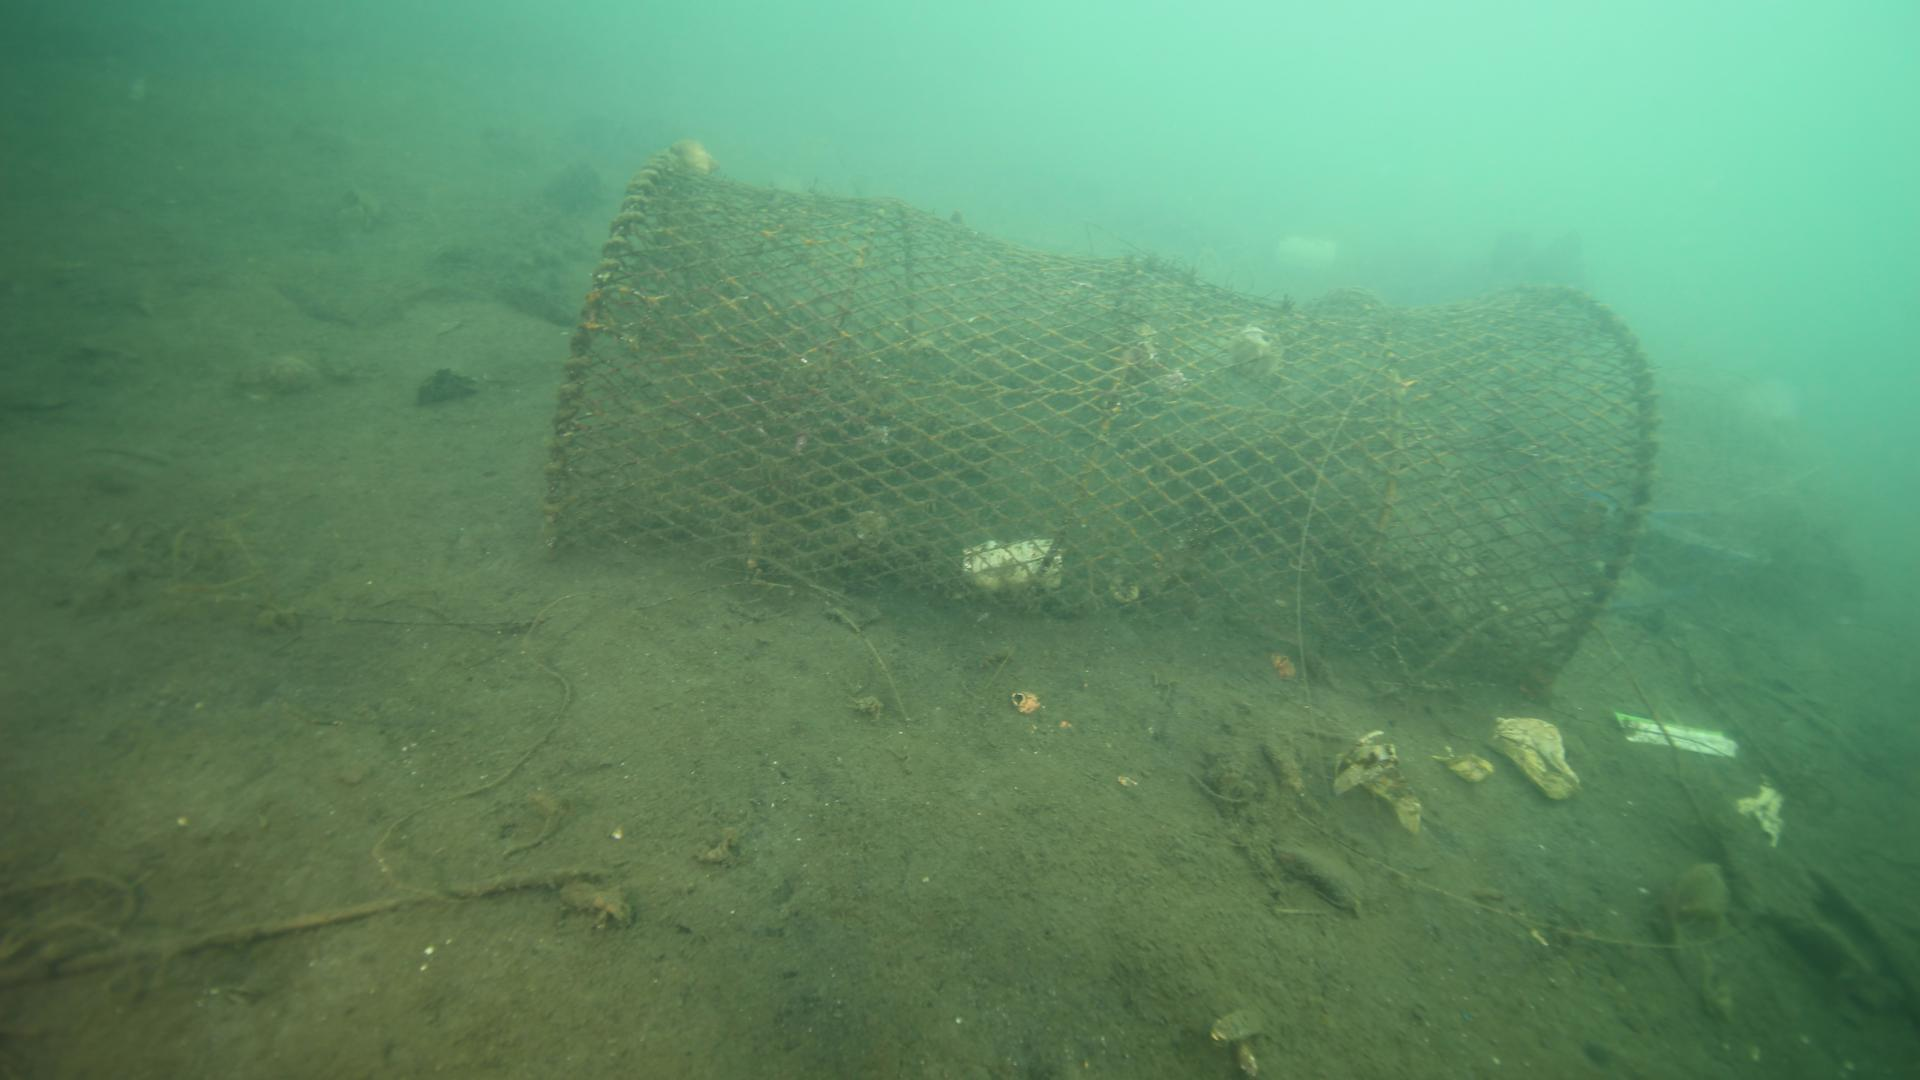spring fish trap: (531, 145, 1672, 705)
